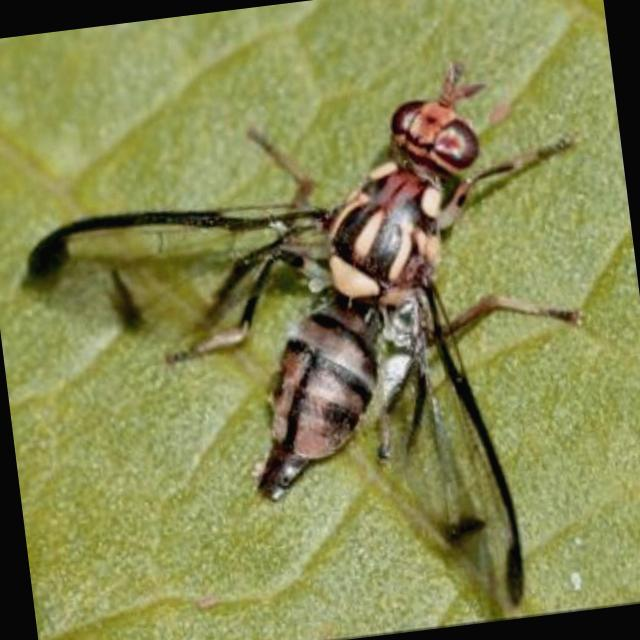melon fly: (3, 48, 640, 608)
